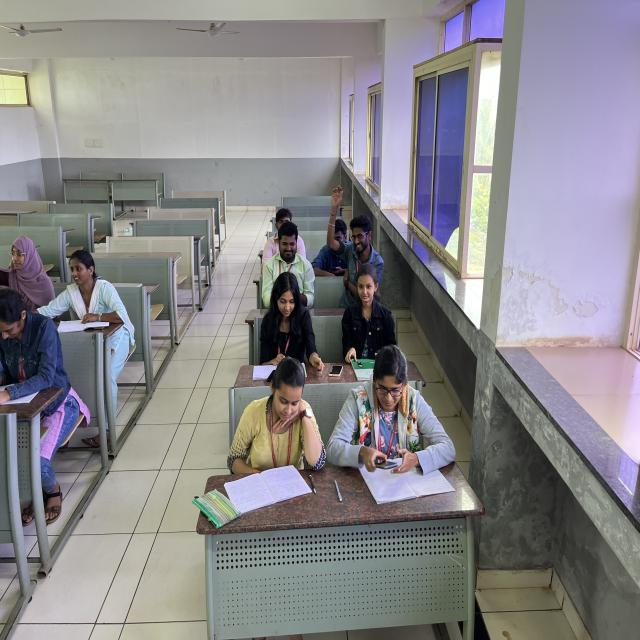Hand Rising: (318, 174, 401, 280)
Reading: (220, 355, 326, 519), (0, 278, 73, 465), (247, 266, 327, 379)
Using Phone: (328, 344, 468, 496)
